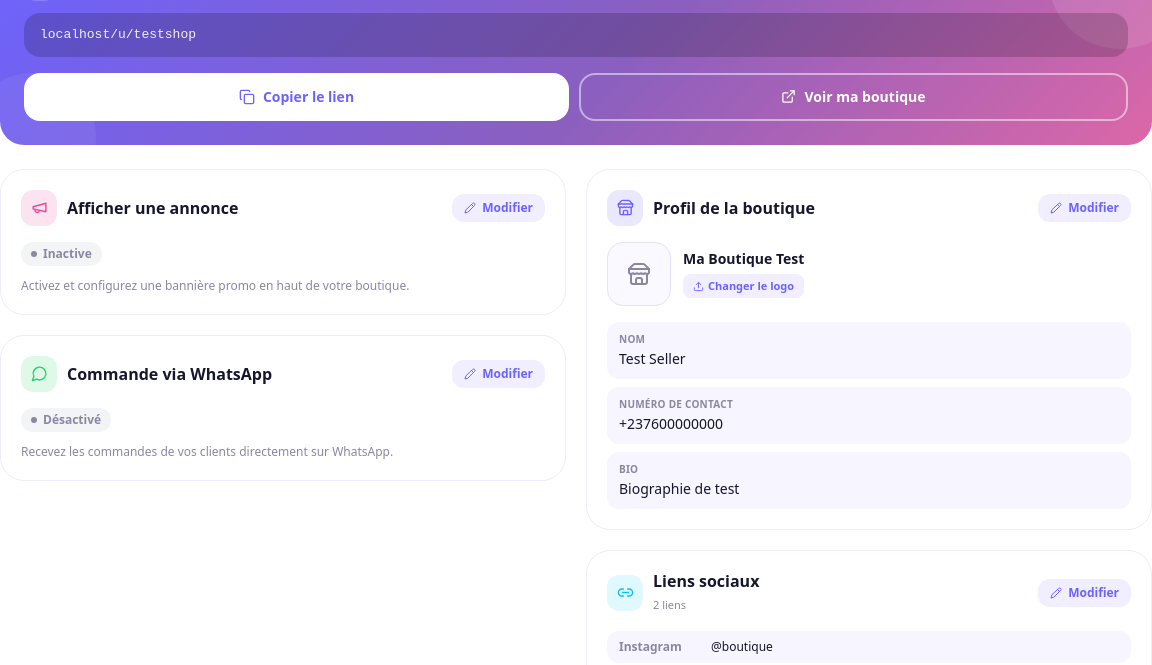
Test: BioLink — liens sociaux › supprimer un lien existant réduit le nombre de lignes
Click the button "Modifier" in the row of "Liens sociaux" at (1085, 592), box [1038, 578, 1131, 606]
(page scrolled)
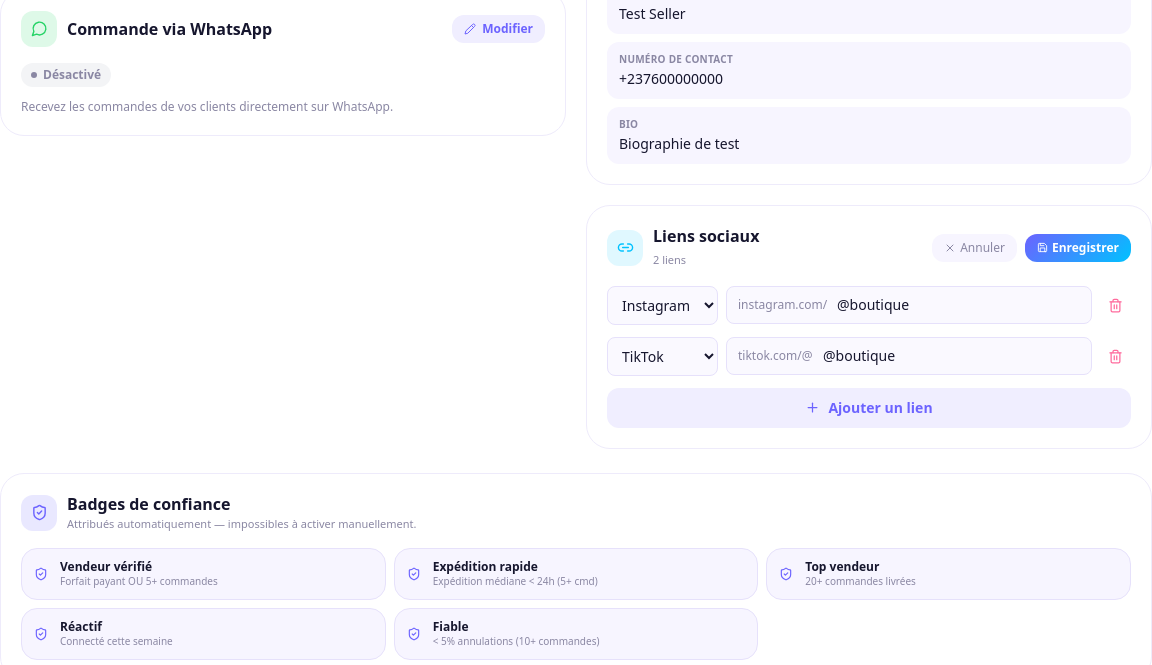
Now the number of dropdowns is 2, box [607, 286, 718, 324]; [607, 336, 718, 376]
Click the button named "Supprimer ce lien" in the row of "instagram.com/" at (1116, 305), box [1100, 286, 1131, 324]
(page scrolled)
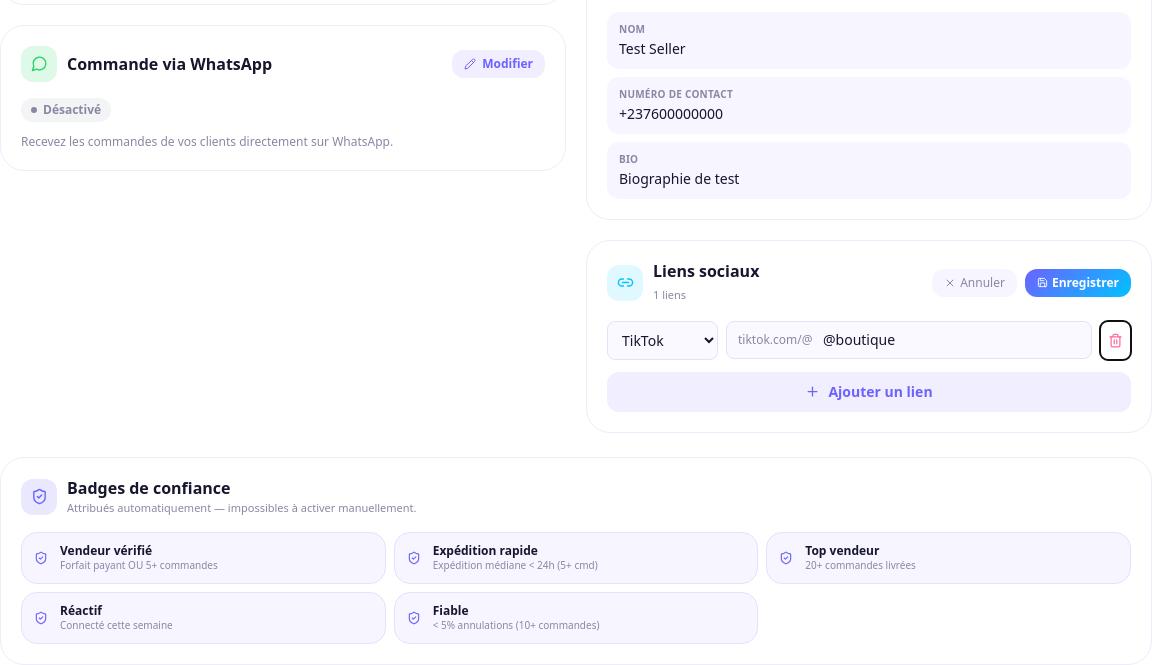
Now the number of dropdowns is 1, box [607, 320, 718, 360]
